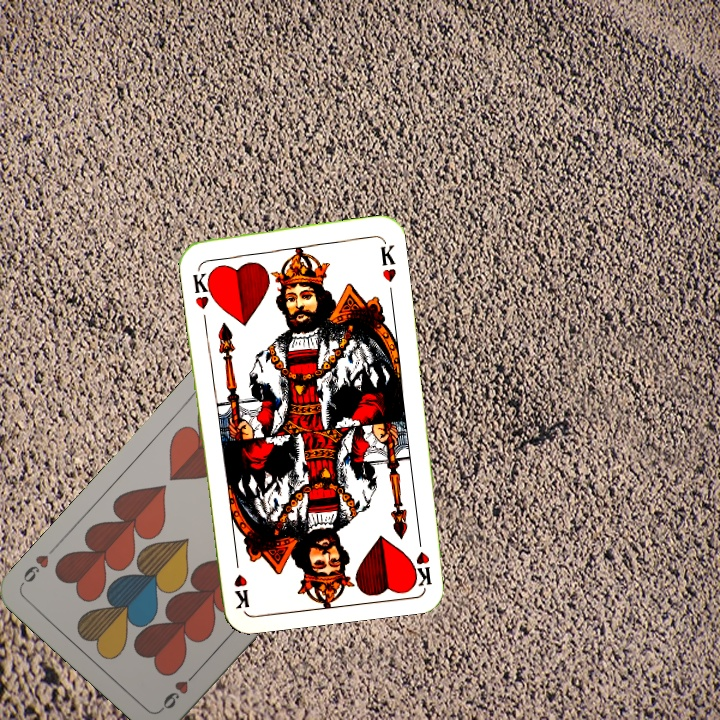H9: (156, 666, 201, 712)
HK: (408, 527, 434, 587), (189, 267, 217, 312)
